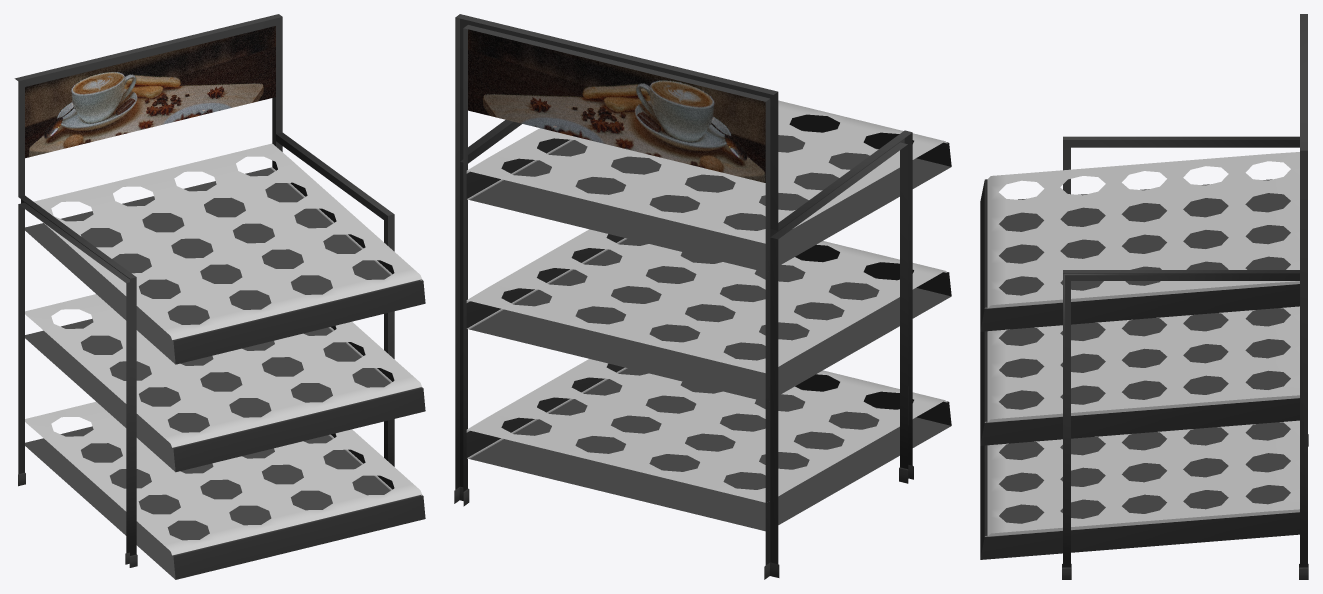
File: coffeestand.FBX
3 views of the same model, side by side, from view 1: azimuth 30°, elevation 25°; view 2: azimuth 150°, elevation 25°; view 3: azimuth 270°, elevation 25° (orthographic). The views are drawn at different scales.
Parts seen in each view (by area): view 1: 커피진열대최종; view 2: 커피진열대최종; view 3: 커피진열대최종.
Part boxes in pixels (bbox=[...]): 커피진열대최종: bbox=[14, 14, 425, 579]; 커피진열대최종: bbox=[454, 14, 951, 579]; 커피진열대최종: bbox=[980, 14, 1308, 579].
Size of the model in its own units: 59.8 by 87 by 60.41.
